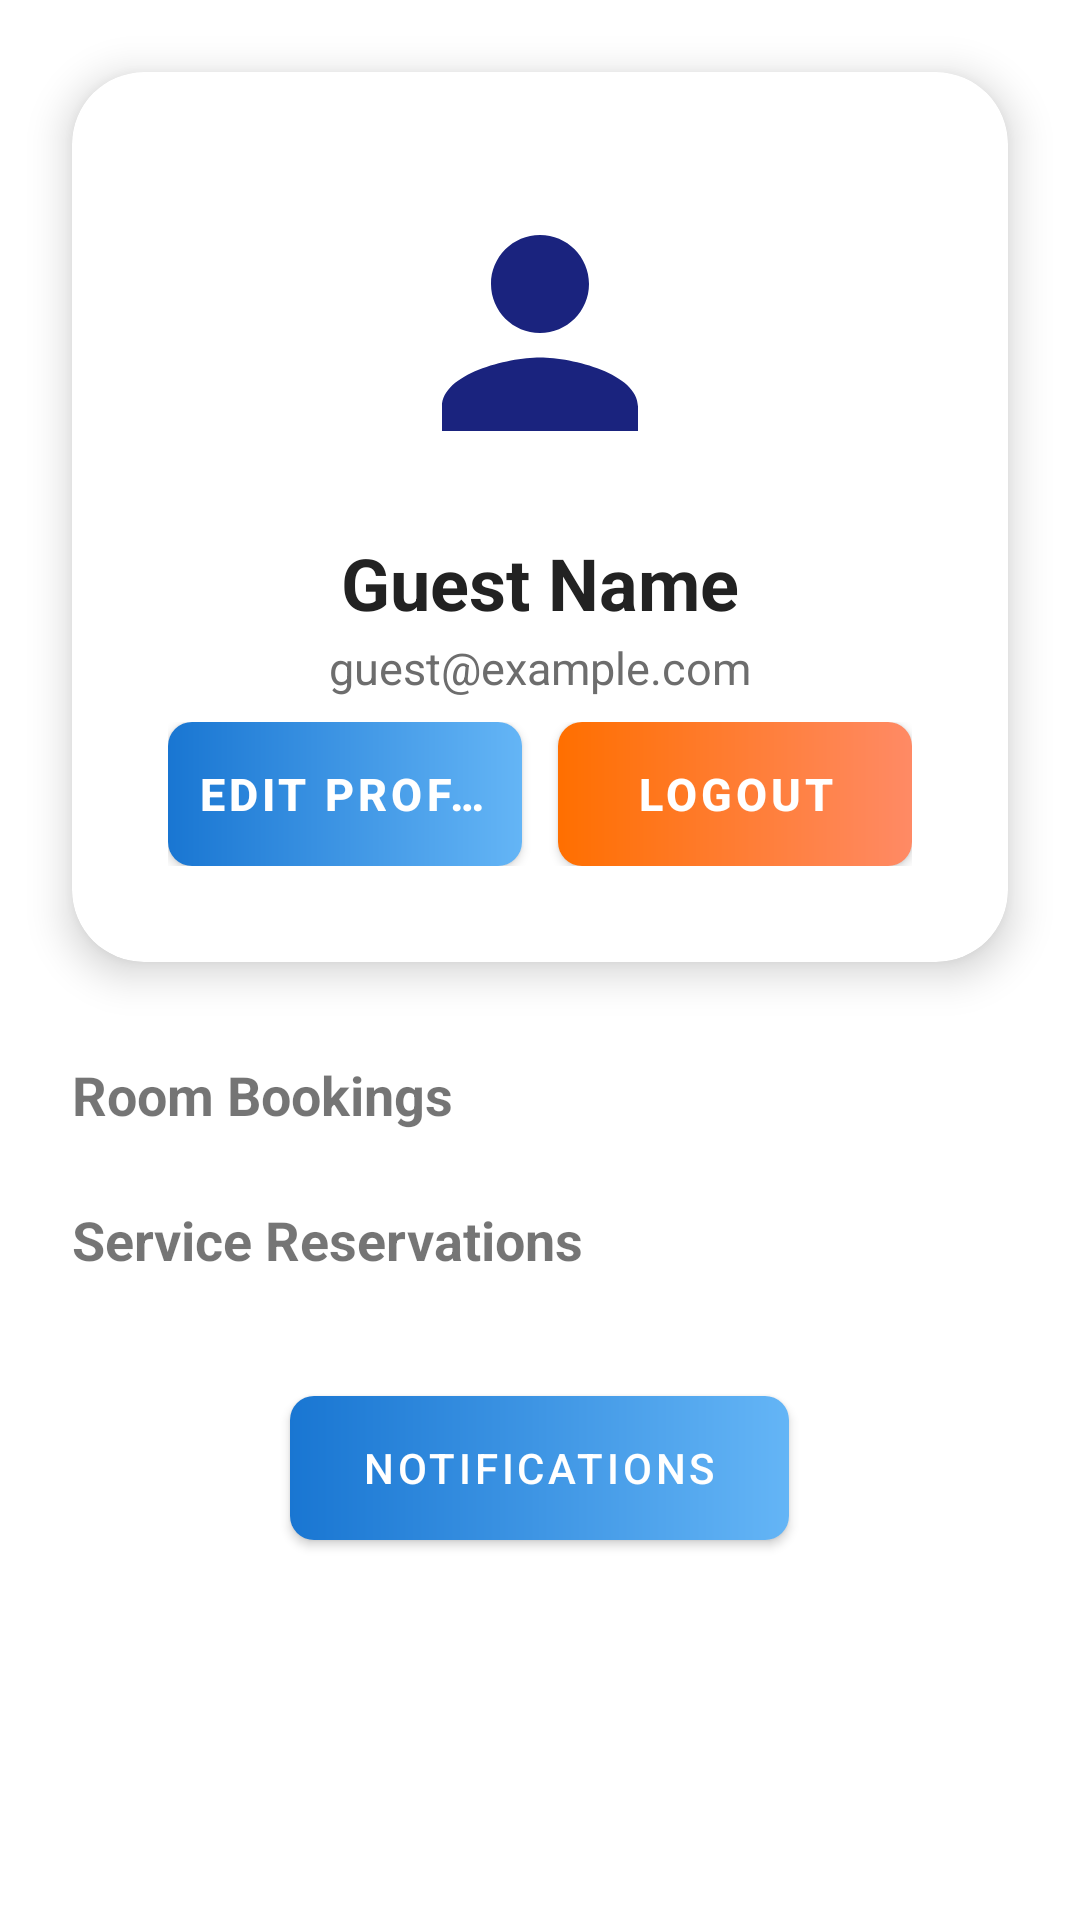

Where icons sit on this 1080px x 1920px app screen, as (x1, y1, x2, y2):
profile: (442, 235, 638, 431)
